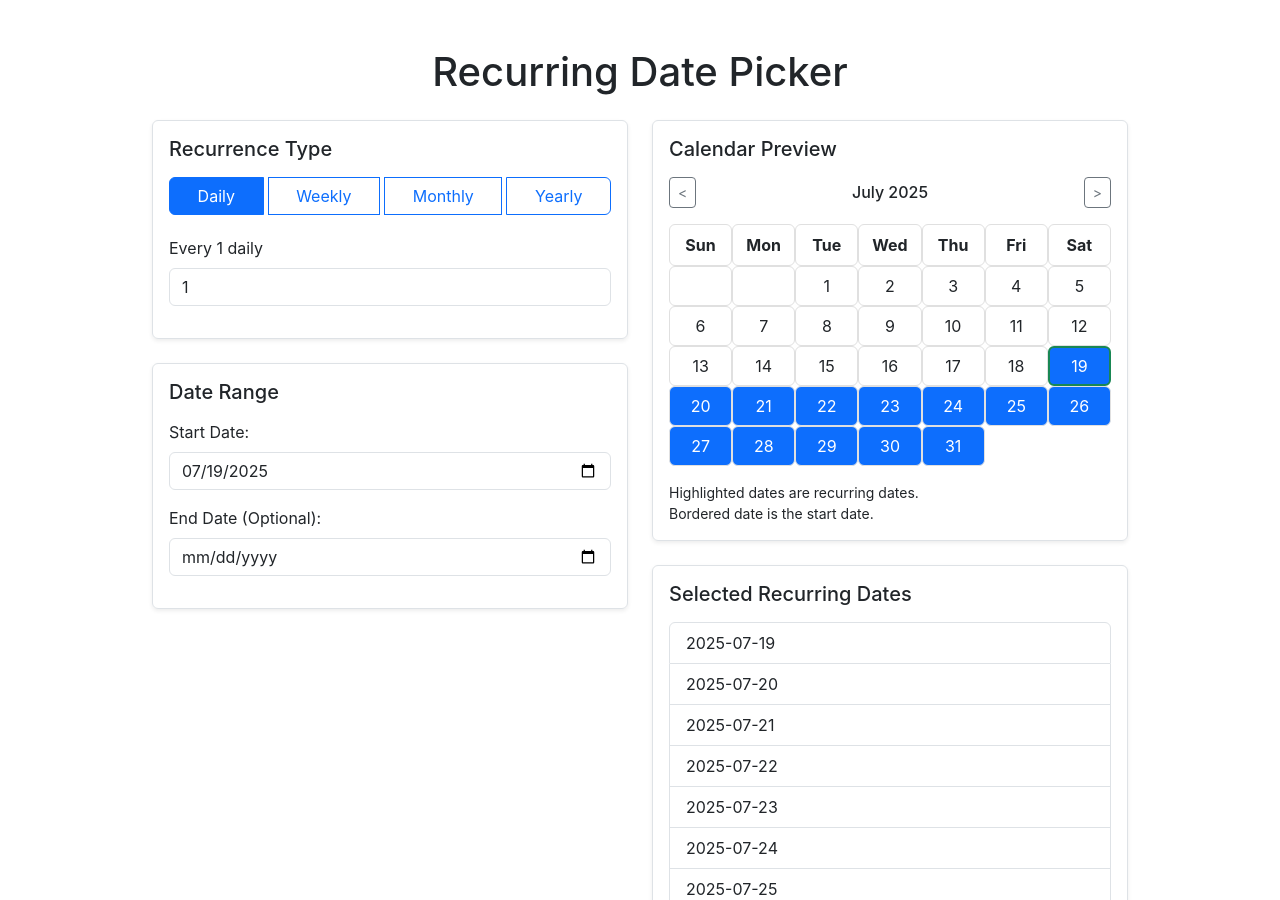
it: RecurringDatePicker Component Integration Tests › should filter generated dates by end date
This screenshot has width=1280, height=900.
expect the list item "2025-07-19" is shown: met, box [669,622,1111,664]
expect the list item "2025-07-20" is shown: met, box [669,664,1111,705]
Type "2025-07-20" into the date field labelled "End Date (Optional):" at (390, 557), box [169,538,611,576]
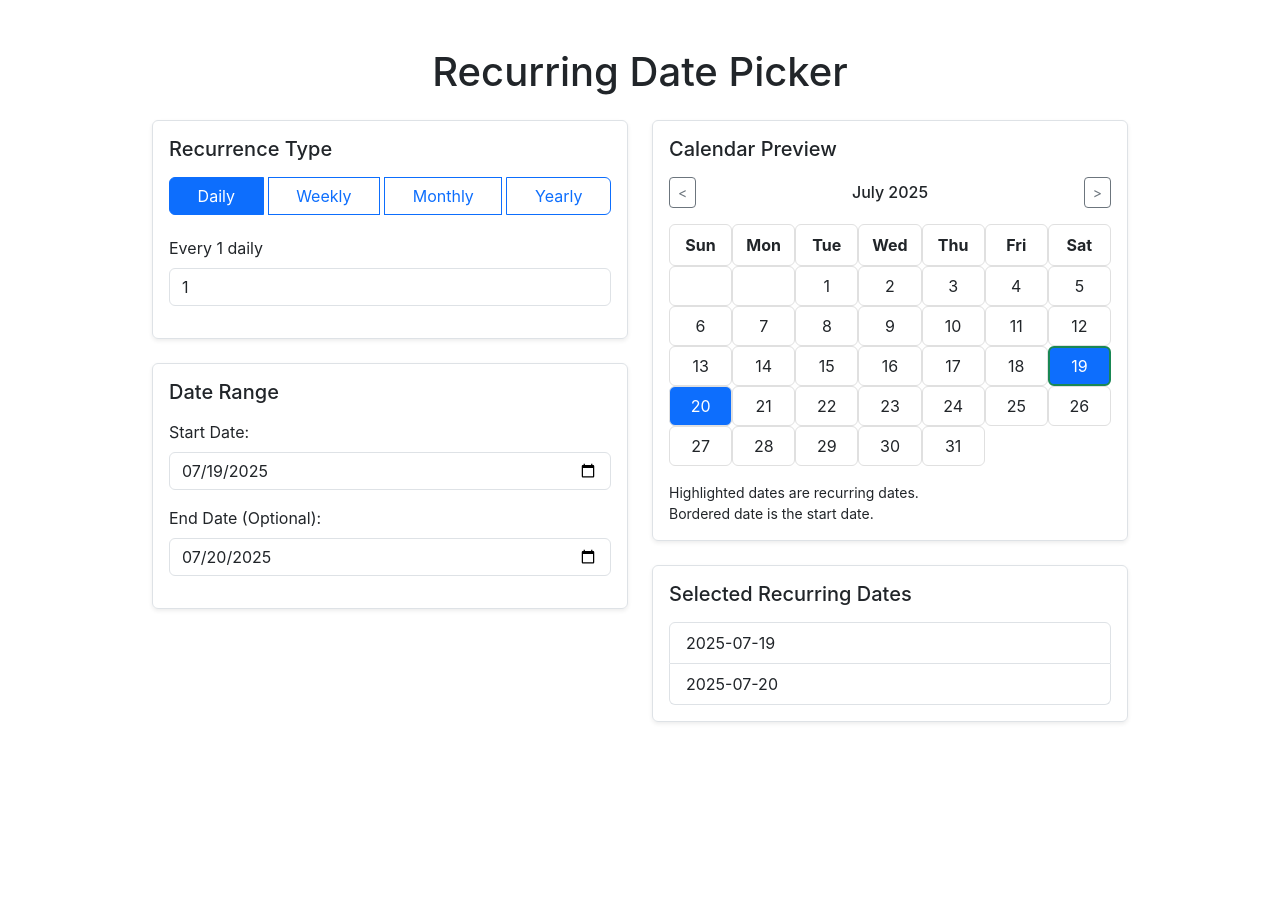
expect the list item "2025-07-19" is shown: met, box [669,622,1111,664]
expect the list item "2025-07-21" is gone: met
